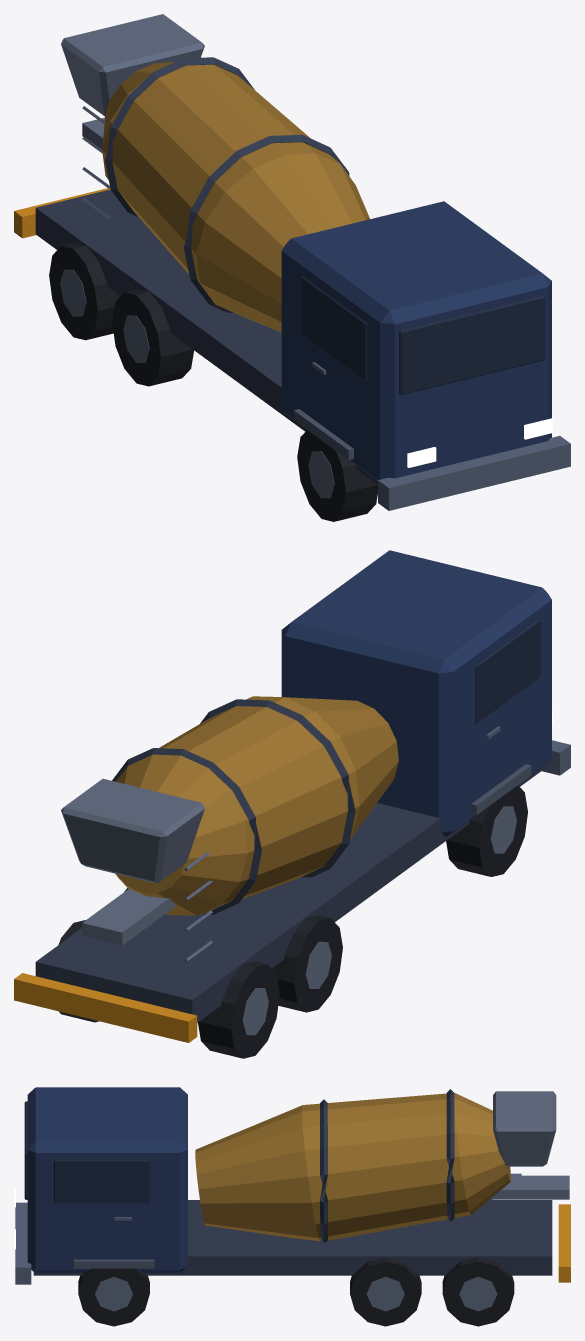
The model's file is build_mixer_truck.glb.
3 renders of one model, top to bottom at view 1: azimuth 30°, elevation 25°; view 2: azimuth 150°, elevation 25°; view 3: azimuth 270°, elevation 25°, orthographic. The views are drawn at different scales.
Visible parts, largest first — view 1: container_navy, crane_paint, trim, glass, rubber, machine, metal, steel_grating, light_white, hivis; view 2: container_navy, crane_paint, trim, machine, rubber, hivis, glass, metal, steel_grating; view 3: crane_paint, container_navy, trim, machine, rubber, glass, metal, hivis, steel_grating.
Part boxes in pixels (x1,y1,x2,y2): container_navy: (281,201,551,480); crane_paint: (102,61,369,332); trim: (35,57,377,484); glass: (301,276,545,395); rubber: (49,243,377,521); machine: (60,14,334,498); metal: (82,106,570,510); steel_grating: (294,409,353,459); light_white: (407,418,552,467); hivis: (14,188,110,238); container_navy: (281,550,551,836); crane_paint: (115,696,398,915); trim: (35,699,545,1022); machine: (61,778,516,1035); rubber: (58,785,527,1058); hivis: (14,973,197,1042); glass: (475,619,540,724); metal: (184,726,570,962); steel_grating: (471,764,531,815); crane_paint: (195,1093,510,1241); container_navy: (27,1087,187,1272); trim: (33,1089,552,1275); machine: (95,1091,569,1311); rubber: (78,1199,514,1326); glass: (24,1101,149,1203); metal: (15,1173,521,1284); hivis: (558,1204,570,1282); steel_grating: (74,1259,154,1268).
Bounding box in the file's own units: 2.51 × 3.55 × 9.02.
